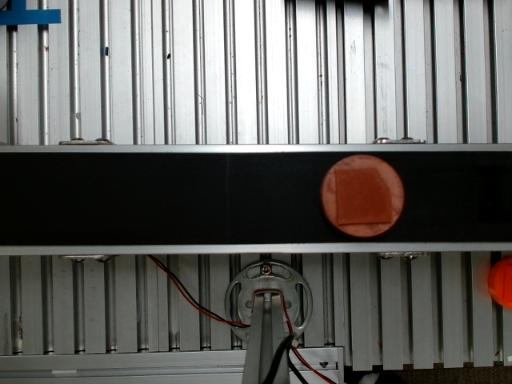Brown_Waper: (322, 154, 404, 237)
Not_Square: (336, 166, 393, 225)
